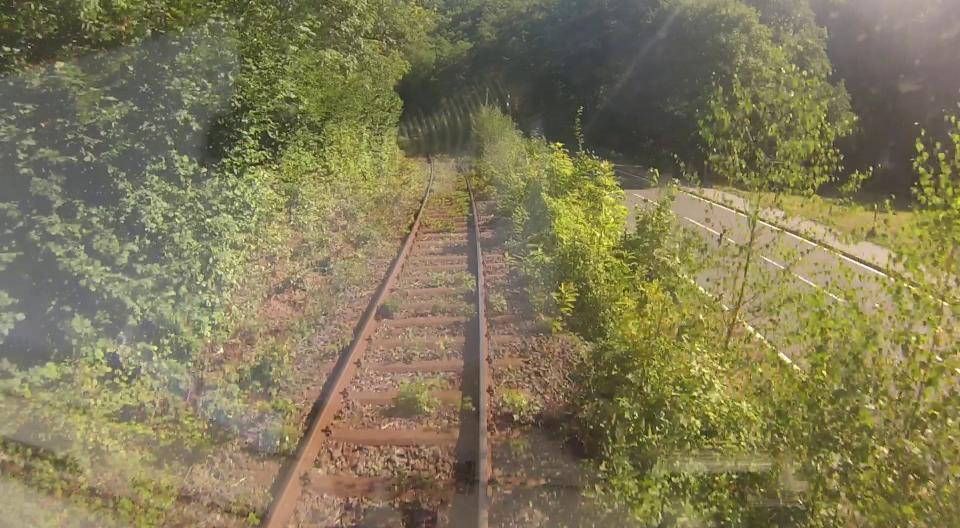Plant: (180, 157, 426, 528), (578, 274, 757, 528), (464, 105, 636, 344), (432, 157, 471, 217), (386, 379, 438, 418), (410, 270, 474, 290), (430, 303, 476, 318), (421, 214, 454, 232), (376, 298, 400, 318), (508, 396, 526, 411)
